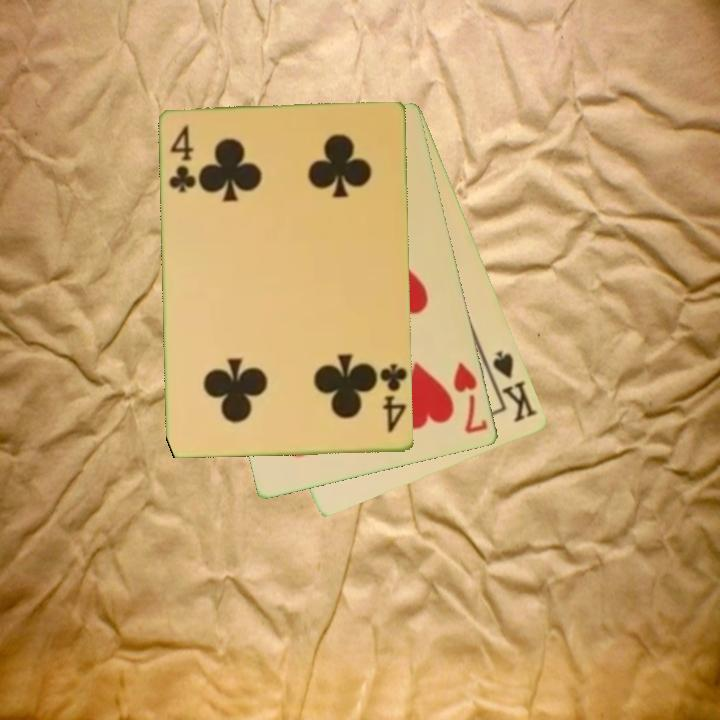4c: (374, 361, 410, 436), (166, 121, 198, 196)
7h: (450, 359, 491, 437)
Ks: (481, 347, 541, 426)
